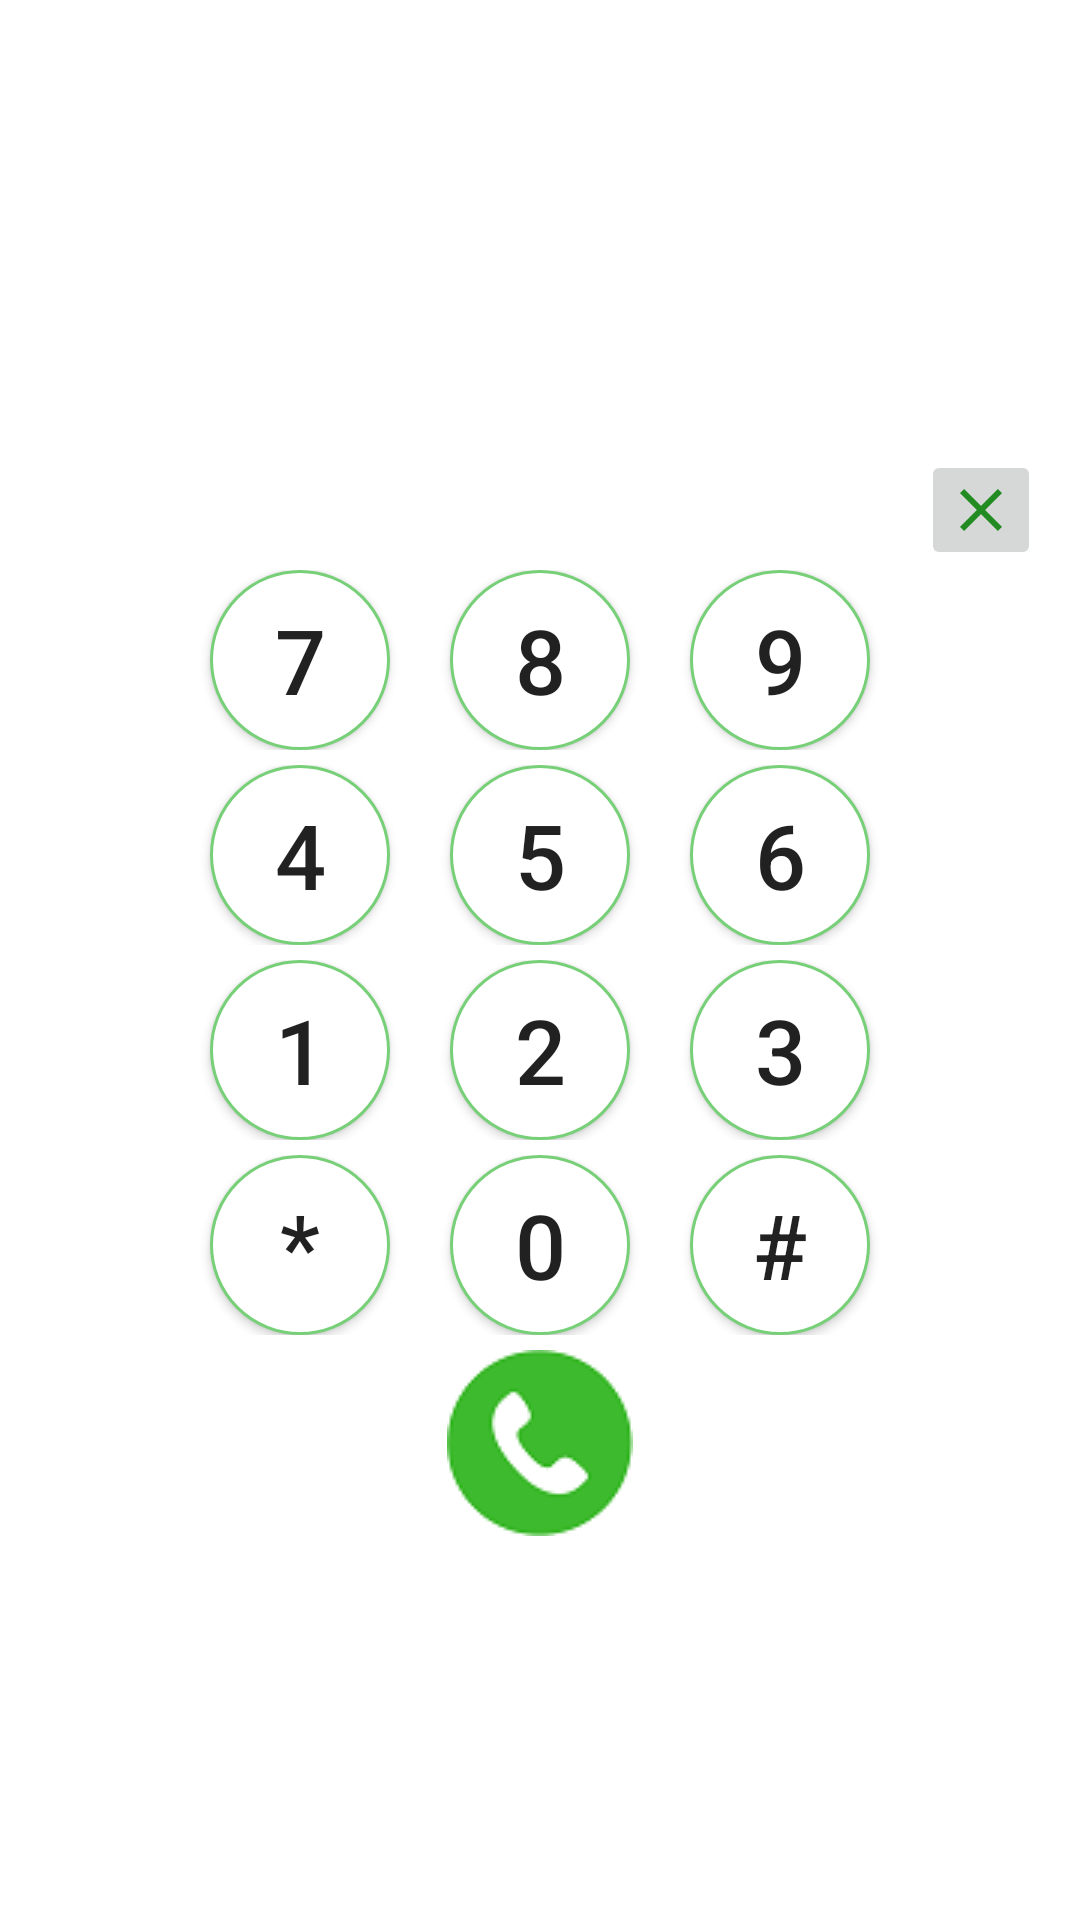

Icons on this 1080x1920 Android screen, each with the point to tap as (x=x, y=y):
callme: (x=540, y=1443)
